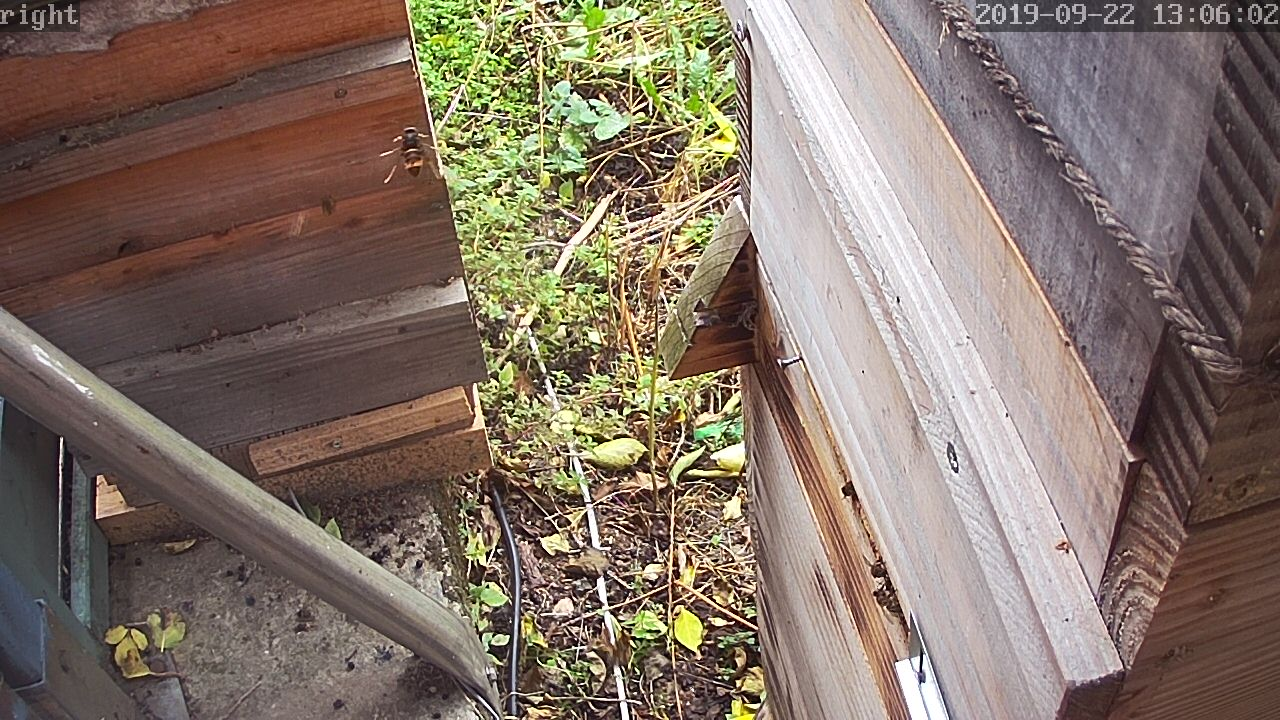bee: (872, 584, 903, 620), (835, 477, 866, 507), (867, 557, 889, 581)
hornet: (386, 124, 438, 180)
